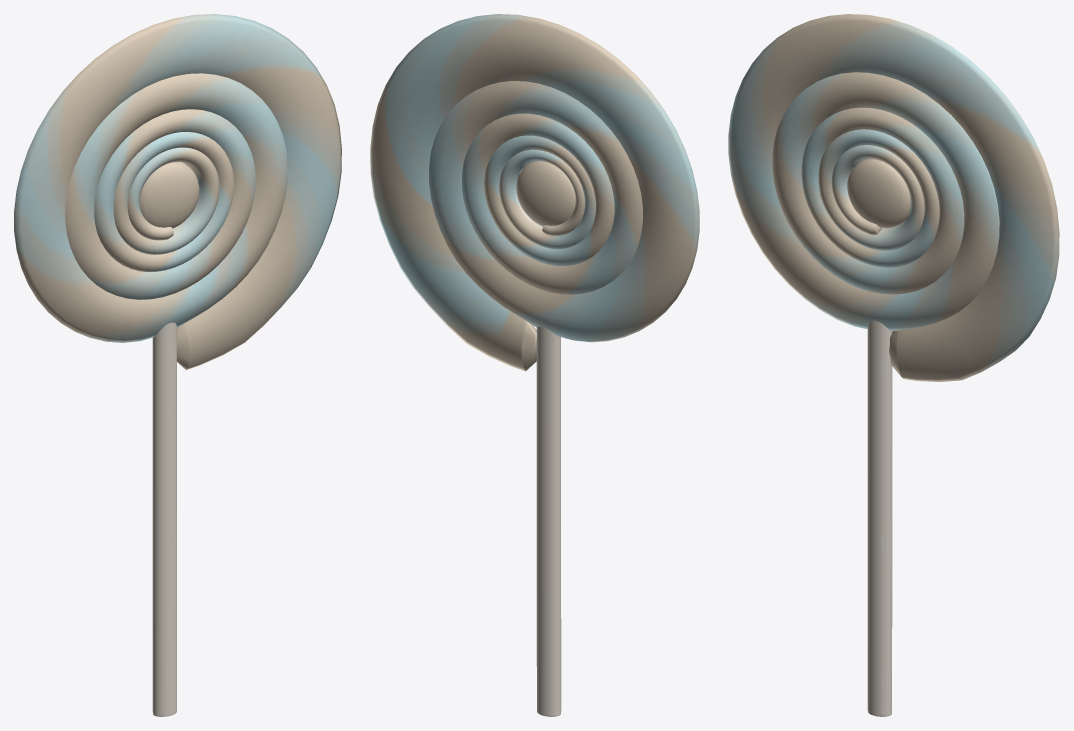
File: Lollipop2Final.fbx
3 views of the same model, side by side, from view 1: azimuth 30°, elevation 25°; view 2: azimuth 150°, elevation 25°; view 3: azimuth 330°, elevation 25° (orthographic).
Parts seen in each view (by area): view 1: Lollipoop; view 2: Lollipoop; view 3: Lollipoop.
Boxes of the visible parts, x1,y1,x2,y2 form: Lollipoop: (14,14,341,716); Lollipoop: (370,14,699,716); Lollipoop: (728,14,1059,716).
Bounding box in the file's own units: 2008 × 4039 × 174.
